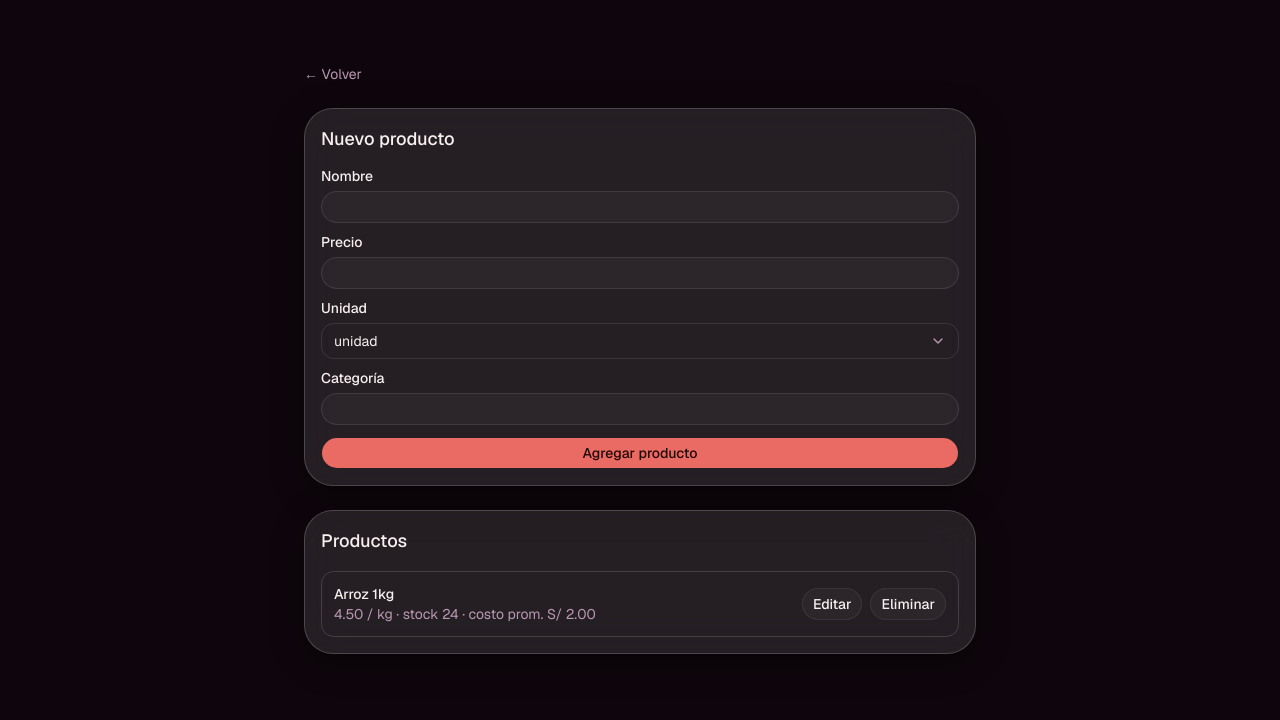
Scenario: ProductsPage delete flow › shows a confirmation dialog instead of deleting immediately
The width and height of the screenshot is (1280, 720).
Click the button "Eliminar" at (908, 604), box [870,588,946,620]
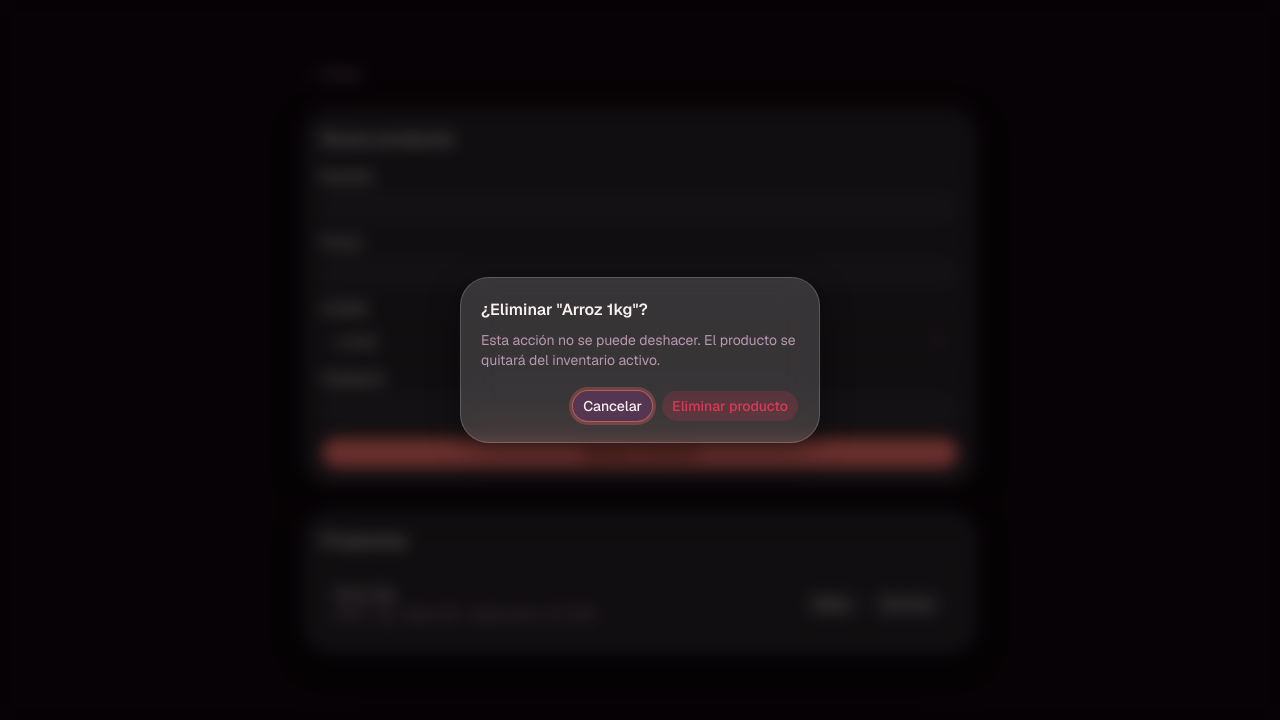
Check: the heading "¿Eliminar \"Arroz 1kg\"?" is shown, box [481,299,648,320]
